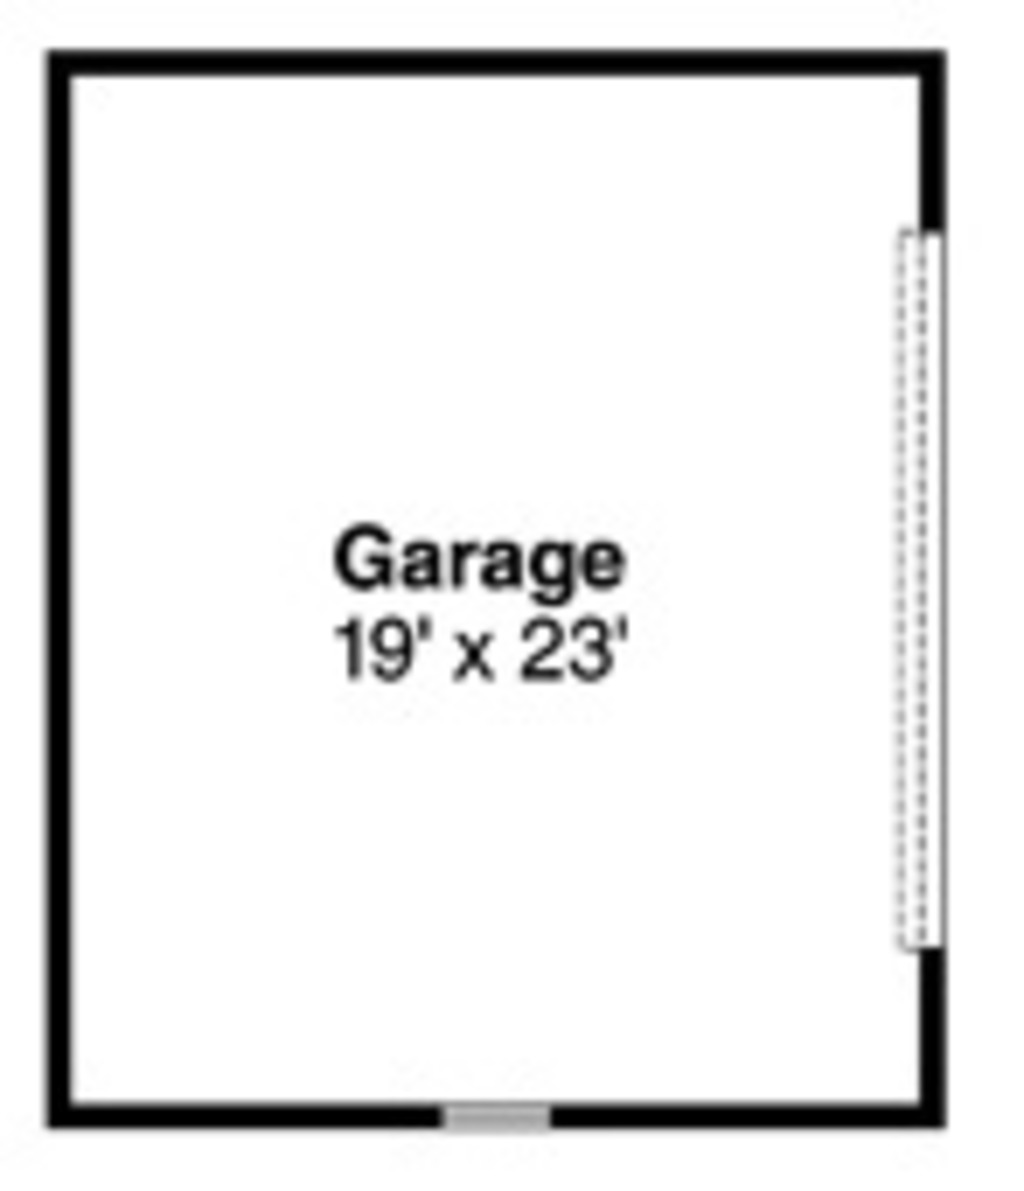window: (427, 1086, 569, 1153)
